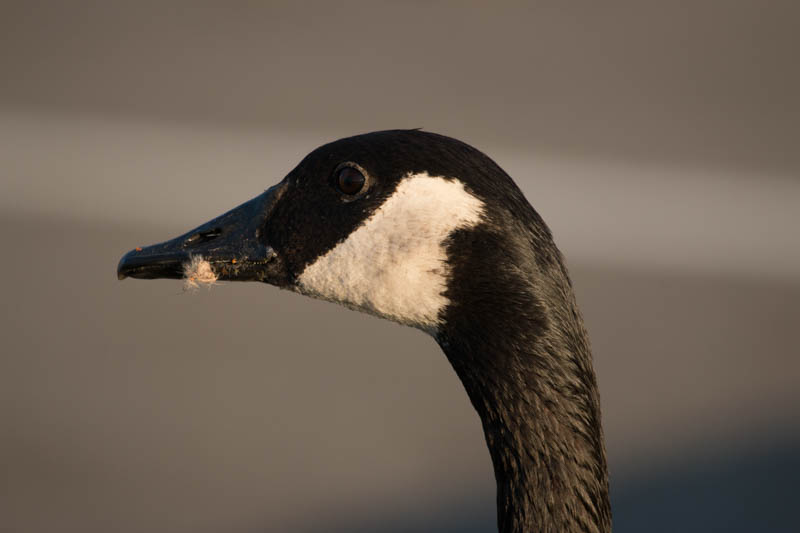goose-head: (118, 128, 535, 346)
